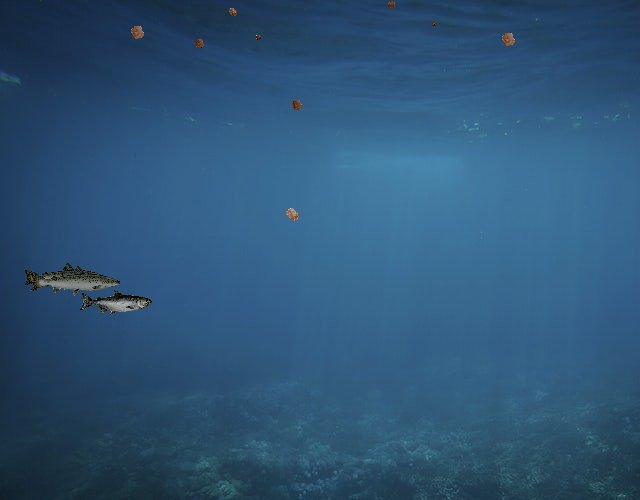Fish: (29, 264, 123, 298), (22, 261, 108, 292), (80, 290, 153, 316)
Pellet: (278, 200, 306, 228), (123, 18, 151, 46), (286, 94, 308, 116), (224, 3, 242, 21), (252, 32, 264, 44)
